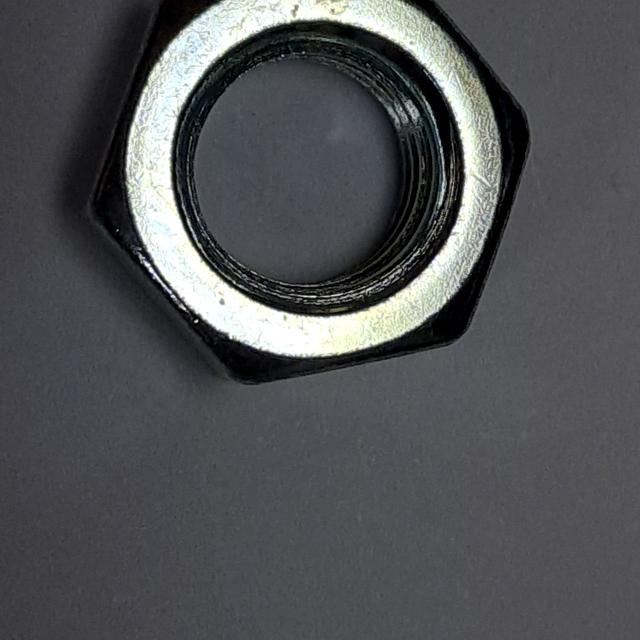Excellent: (53, 1, 551, 408)
